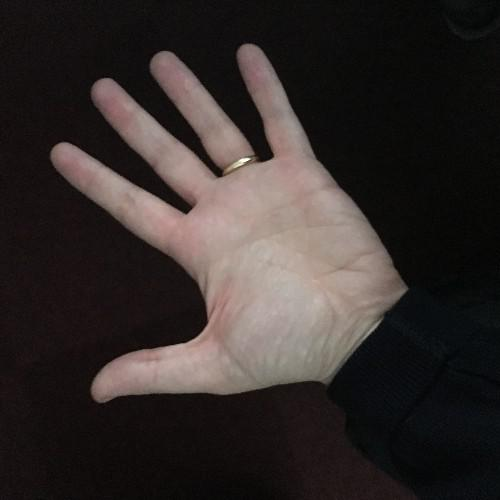paper: (29, 38, 419, 415)
